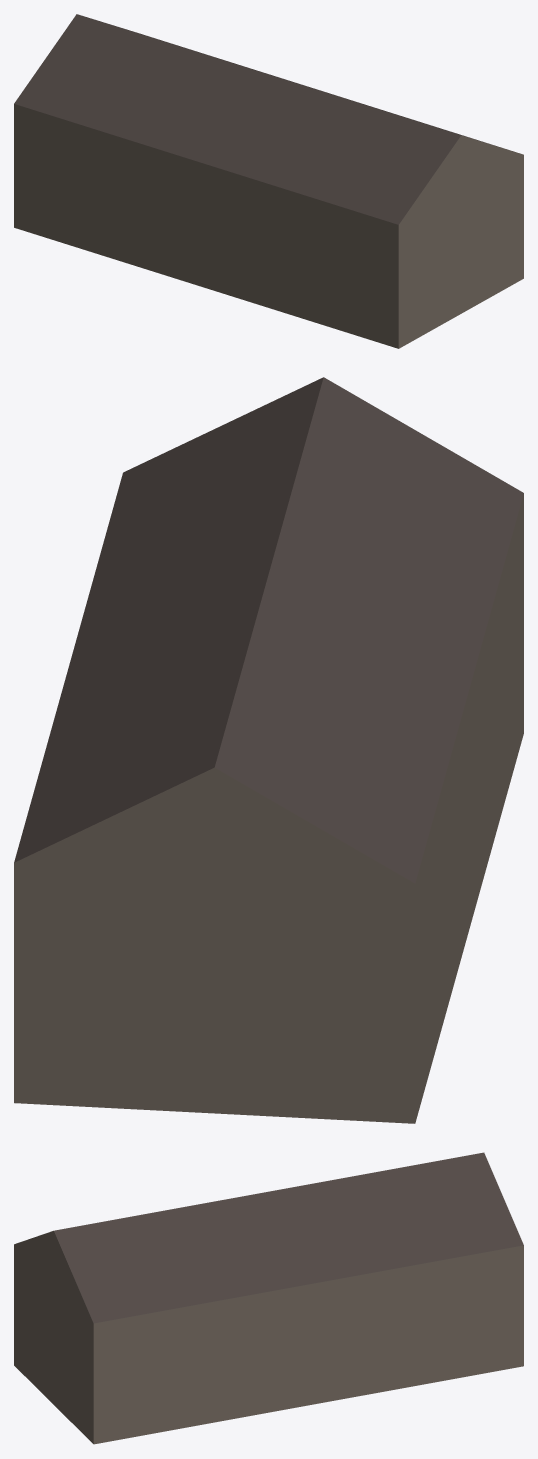
3 views of the same model, one above another, from view 1: azimuth 30°, elevation 25°; view 2: azimuth 150°, elevation 25°; view 3: azimuth 270°, elevation 25° (orthographic). The views are drawn at different scales.
Parts seen in each view (by area): view 1: HP-w859082450; view 2: HP-w859082450; view 3: HP-w859082450.
Boxes of the visible parts, left/top/right/bottom form: HP-w859082450: left=14, top=14, right=523, bottom=348; HP-w859082450: left=14, top=377, right=523, bottom=1123; HP-w859082450: left=14, top=1152, right=523, bottom=1444.
Size of the model in its own units: 16.74 by 8.64 by 22.93.
